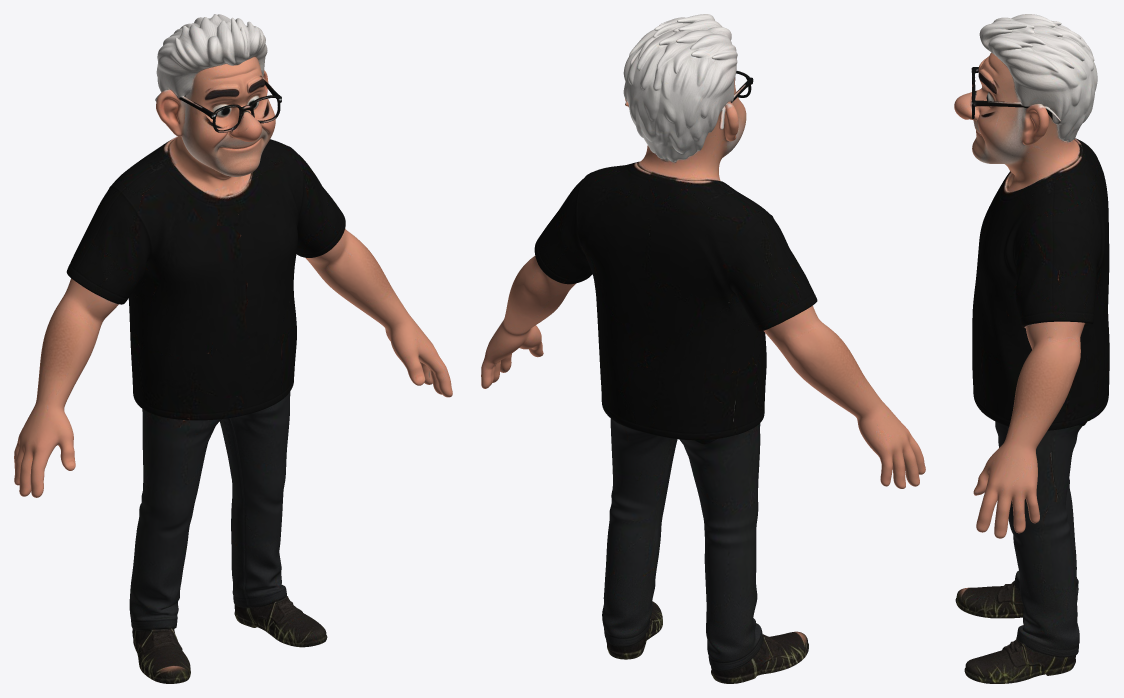
The model's file is saba-alone.glb.
3 views of the same model, side by side, from view 1: azimuth 30°, elevation 25°; view 2: azimuth 150°, elevation 25°; view 3: azimuth 270°, elevation 25° (orthographic).
Bounding box in the file's own units: 1.36 × 1.9 × 0.4295.
Materials: 1 (1 with a texture image).
